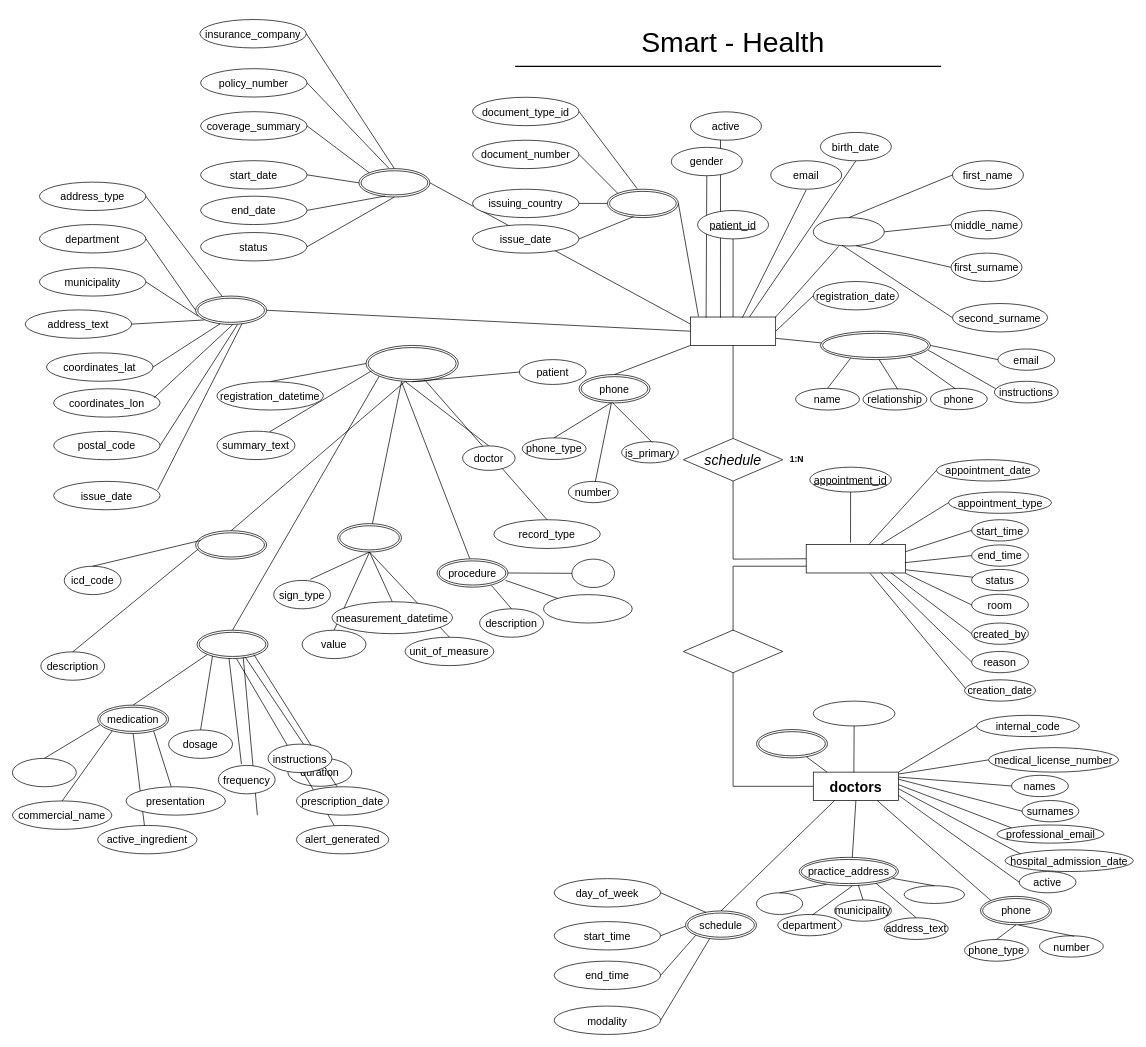
This 1146x1047 diagram has some shape labels left out. Each missing label, with the centre of its shape:
"act_code" goes at pixel 44 772.
"address" goes at pixel 231 309.
"appointments" goes at pixel 855 558.
"attends" goes at pixel 733 651.
"code" goes at pixel 593 573.
"diagnosis" goes at pixel 231 544.
"doctor_id" goes at pixel 854 713.
"document" goes at pixel 642 203.
"emergency_contact" goes at pixel 875 345.
"full_name" goes at pixel 848 231.
"medical_records" goes at pixel 411 363.
"office_hours" goes at pixel 934 894.
"patients" goes at pixel 733 330.
"policy" goes at pixel 394 182.
"prescription" goes at pixel 232 644.
"reference_price" goes at pixel 587 608.
"speciality" goes at pixel 792 743.
"type" goes at pixel 779 903.
"vital_sign" goes at pixel 369 537.
